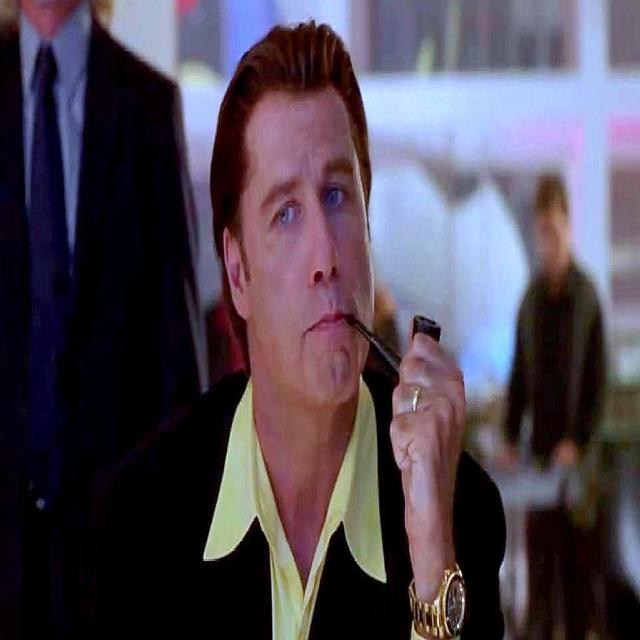smoking: (204, 22, 472, 546)
